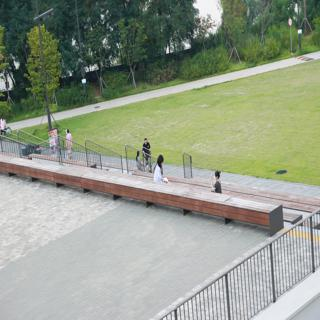person: (151, 152, 171, 187), (207, 166, 227, 198), (61, 127, 78, 164)
